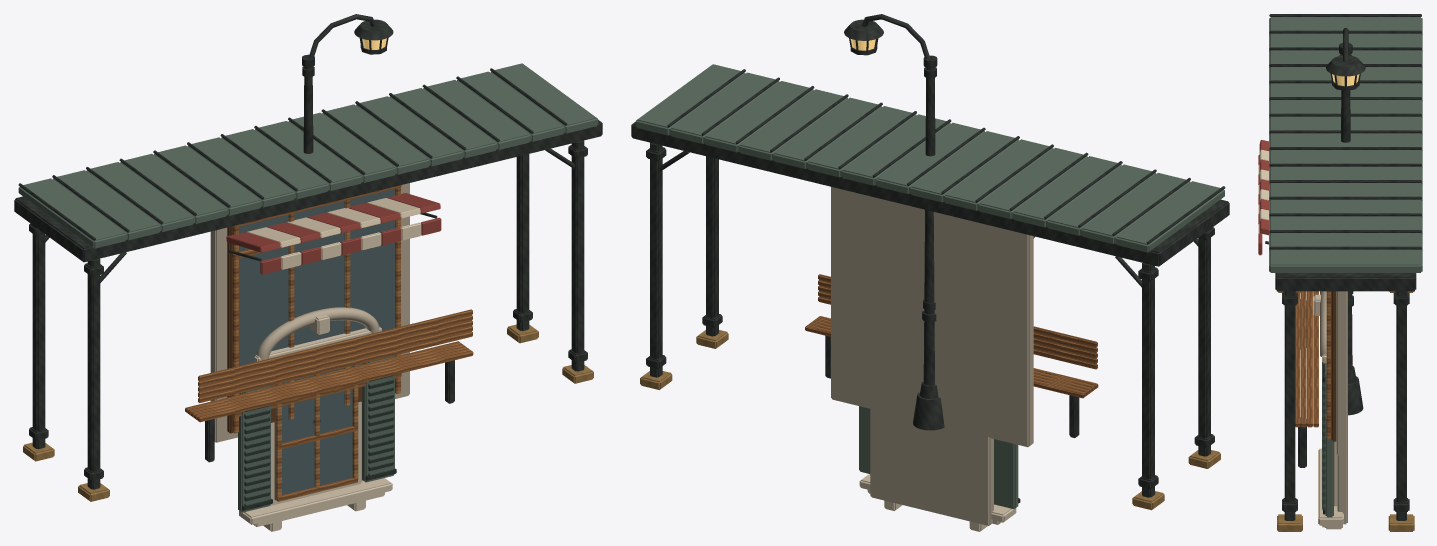
The model's file is street_kit.glb.
3 renders of one model, left to right at view 1: azimuth 30°, elevation 25°; view 2: azimuth 150°, elevation 25°; view 3: azimuth 270°, elevation 25°, orthographic.
Parts seen in each view (by area): view 1: KIT_shelter, KIT_shop, KIT_arch, KIT_lamp; view 2: KIT_shelter, KIT_shop, KIT_arch, KIT_lamp; view 3: KIT_shelter, KIT_shop, KIT_arch, KIT_lamp.
Boxes of the visible parts, bbox=[...] form: KIT_shelter: bbox=[14, 63, 602, 501]; KIT_shop: bbox=[210, 183, 441, 442]; KIT_arch: bbox=[238, 307, 396, 531]; KIT_lamp: bbox=[302, 14, 393, 423]; KIT_shelter: bbox=[631, 64, 1229, 510]; KIT_shop: bbox=[831, 187, 1034, 447]; KIT_arch: bbox=[859, 323, 1020, 531]; KIT_lamp: bbox=[844, 14, 944, 430]; KIT_shelter: bbox=[1269, 14, 1422, 531]; KIT_shop: bbox=[1258, 140, 1347, 455]; KIT_arch: bbox=[1313, 291, 1347, 529]; KIT_lamp: bbox=[1326, 28, 1365, 415].
Size of the model in its own units: 5.33 by 4.77 by 1.44.
14 materials, 3 textured.
